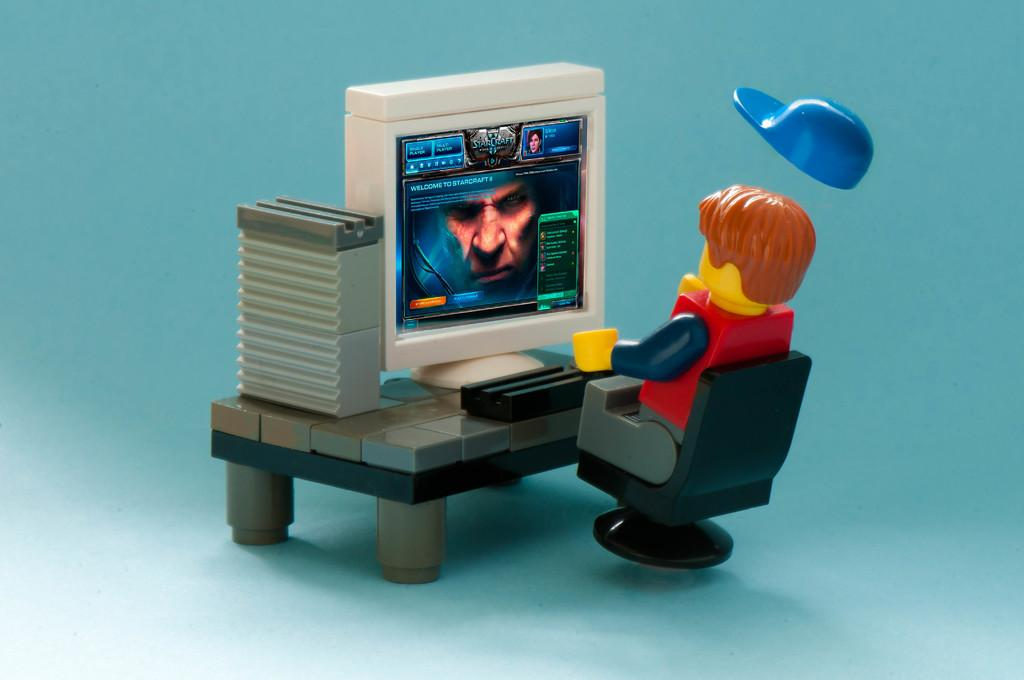Chair: (577, 347, 813, 569)
